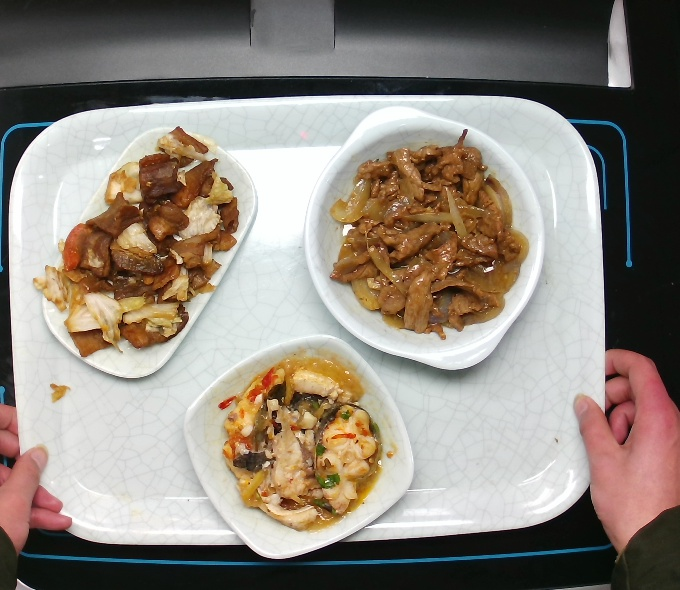wcq-DuoJiaoYuKuai: (220, 357, 392, 531)
wcq-PaoCaiRouPian: (49, 124, 250, 358)
wcq-YangCongRouPian: (335, 140, 522, 333)
